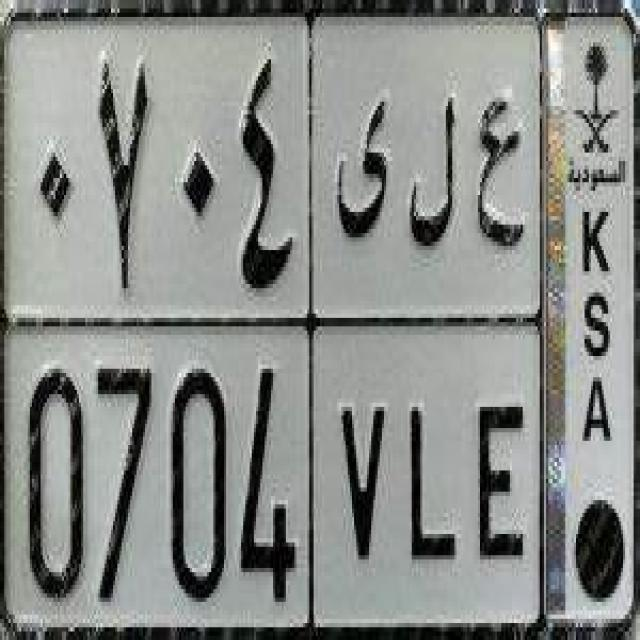license_plate: (3, 316, 544, 632)
